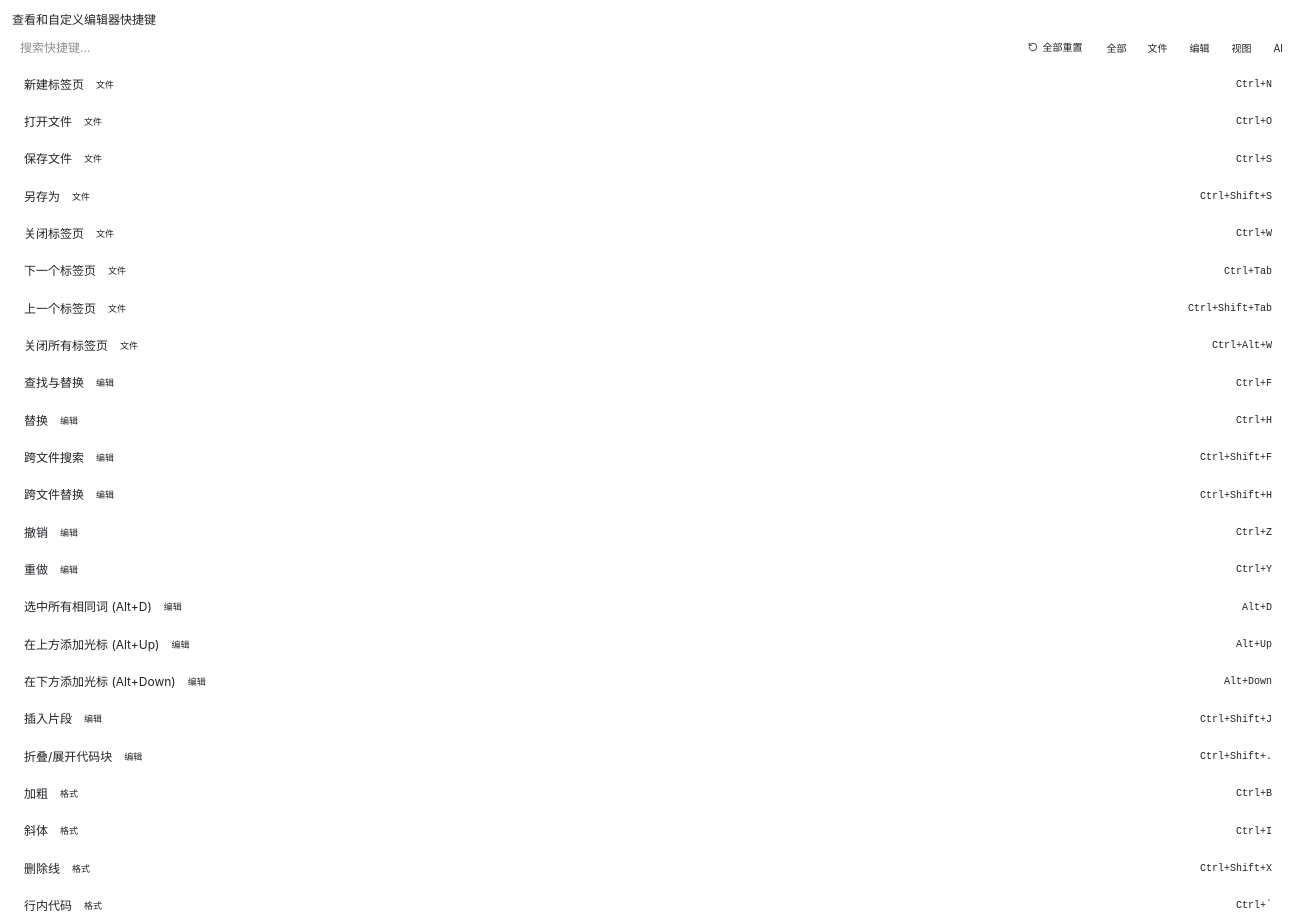
Scenario: ShortcutsTab › search filters shortcut list
Type "新建" into the field. click: (512, 48)
box: [12,36,1012,60]
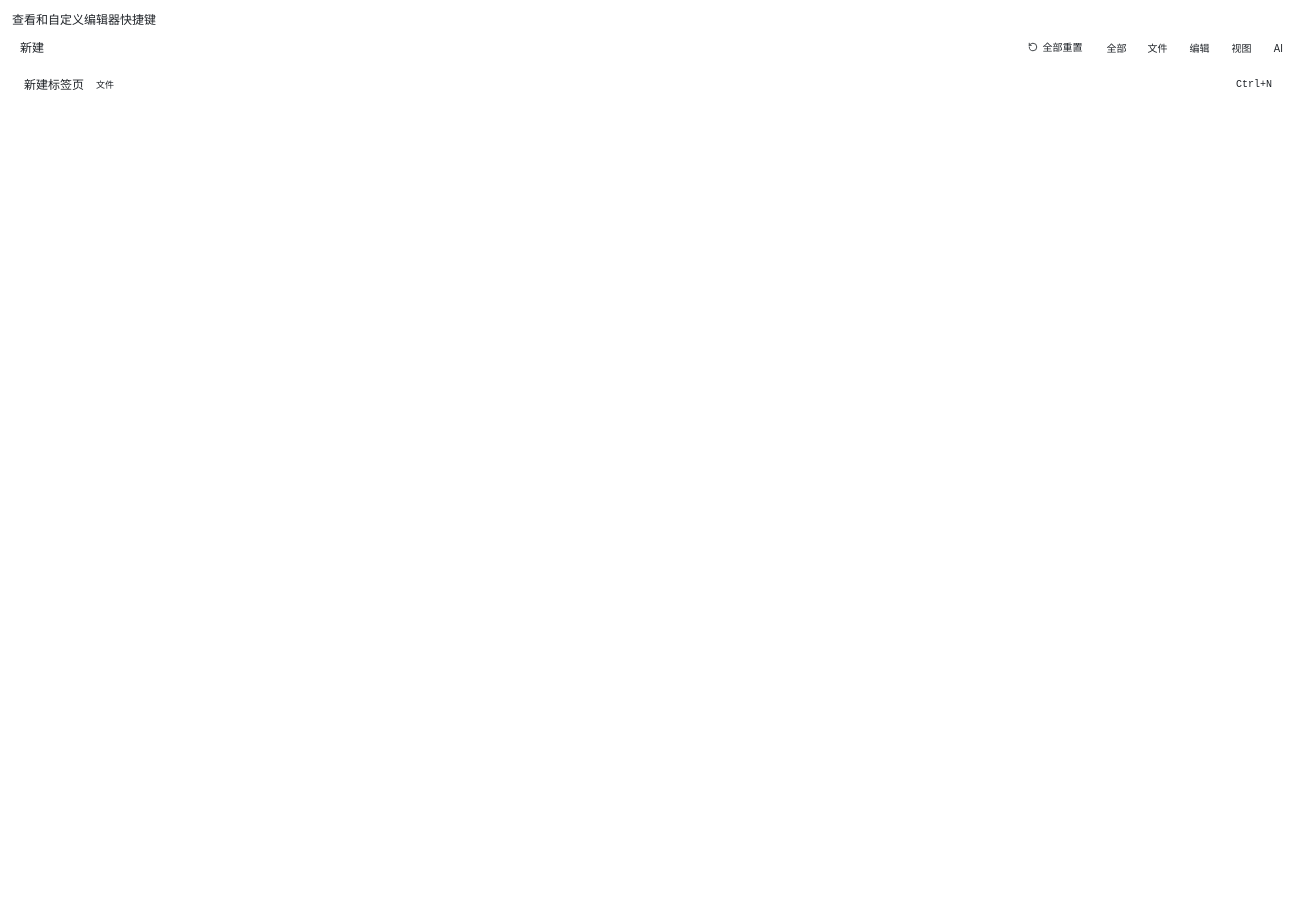
Expected: the text "新建标签页" is shown, [24,77,84,93]
Result: the text "打开文件" is gone
